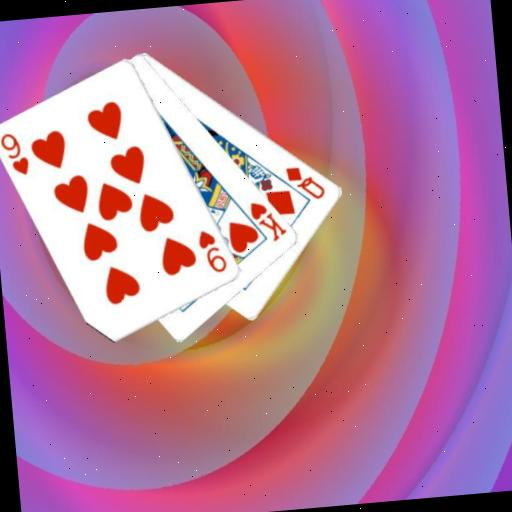9H: (194, 226, 230, 277), (0, 128, 32, 179)
KH: (246, 197, 290, 246)
QD: (282, 161, 327, 204)
